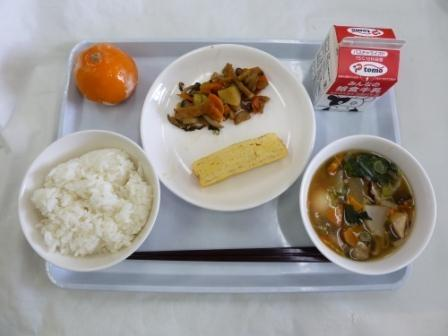Citrus: (60, 41, 142, 109)
Milk: (311, 19, 410, 111)
Rice: (15, 135, 149, 266)
pastry: (191, 123, 293, 201)
vegetable based cooked food: (169, 61, 272, 136)
vegetable soup: (302, 144, 427, 266)
